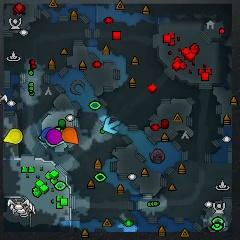p1: (42, 127, 53, 141)
p2: (46, 141, 65, 148)
p3: (47, 129, 64, 144)
p4: (4, 128, 23, 145)
p5: (63, 127, 79, 145)
x3: (103, 118, 120, 134)
